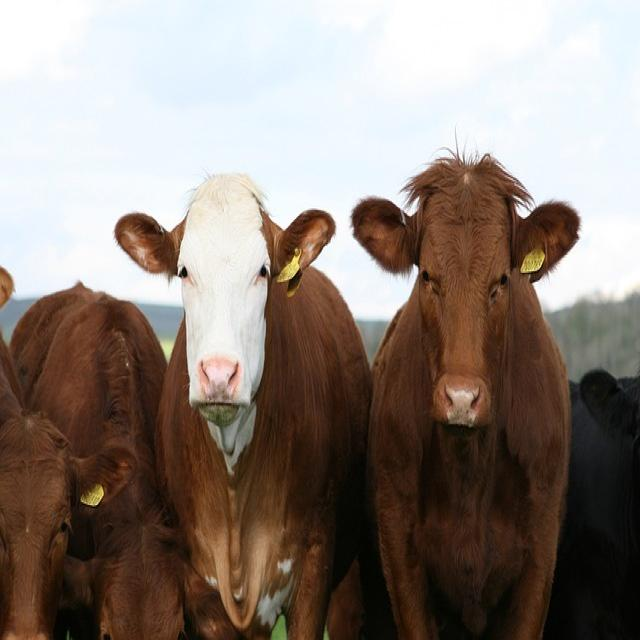Herbivorous: (114, 174, 371, 640), (352, 156, 582, 640), (0, 343, 69, 640)
